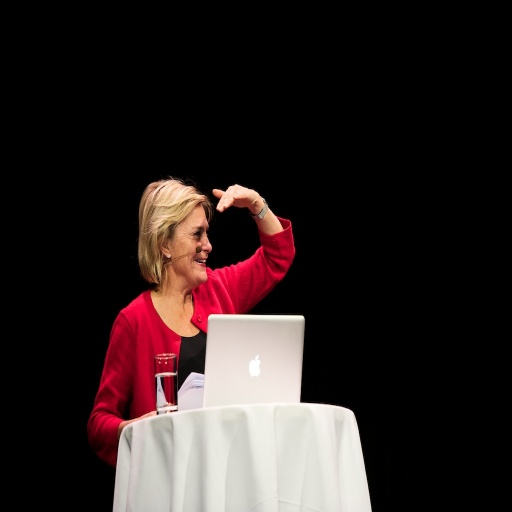hand: (210, 183, 268, 216), (132, 402, 169, 421)
